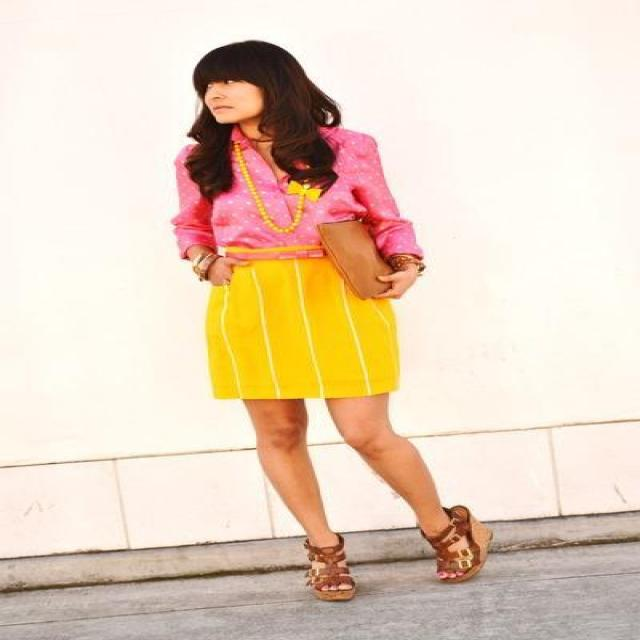bag: (296, 222, 397, 300)
shirt: (173, 115, 422, 257)
shoe: (409, 525, 478, 572)
skirt: (205, 248, 398, 410)
